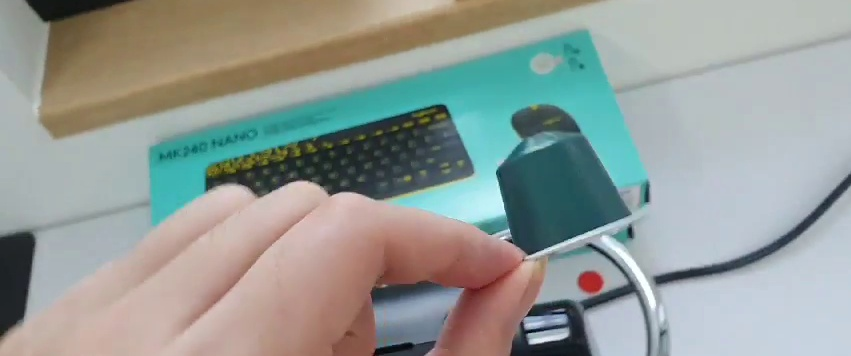capsule_13: (494, 131, 641, 260)
